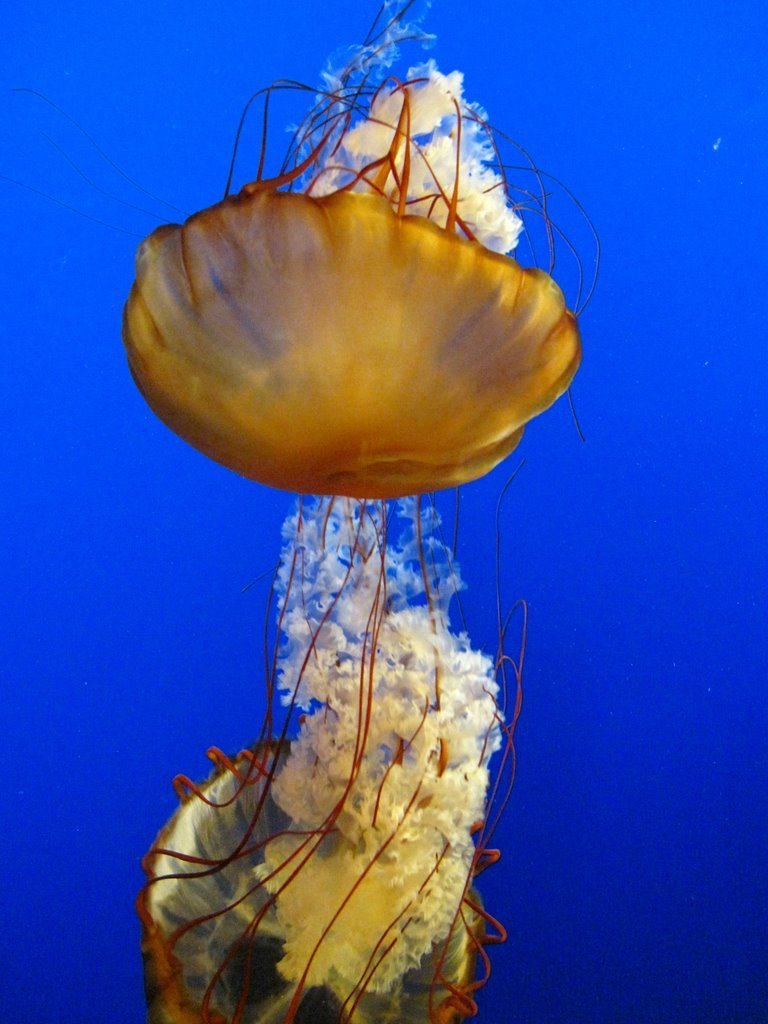Jellyfish: (115, 0, 600, 499), (139, 462, 528, 1022)
